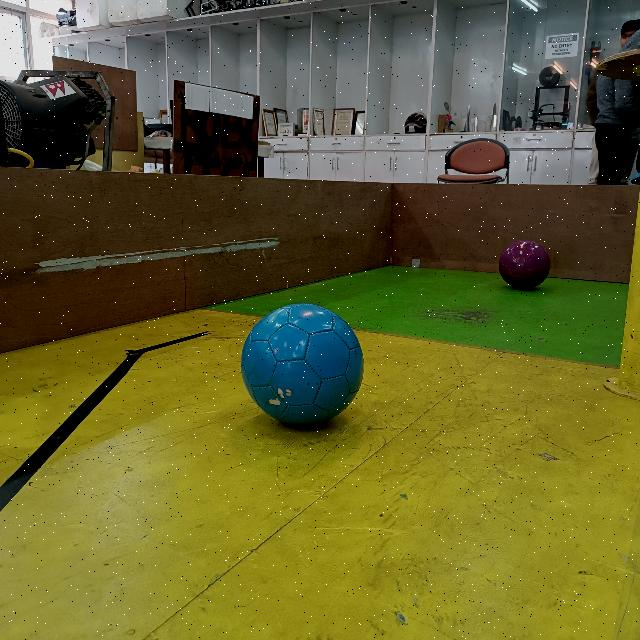B: (240, 301, 366, 429)
P: (498, 238, 552, 292)
